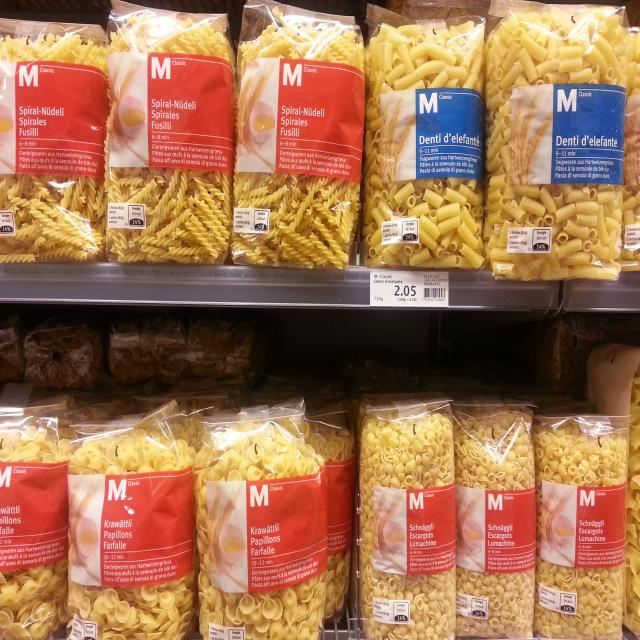Pasta: (486, 0, 632, 283), (231, 0, 366, 272), (362, 1, 487, 270), (108, 0, 233, 264), (66, 418, 196, 640), (196, 426, 329, 640), (0, 20, 105, 262), (360, 394, 456, 640), (534, 412, 631, 640), (451, 399, 538, 640), (0, 392, 73, 640)
